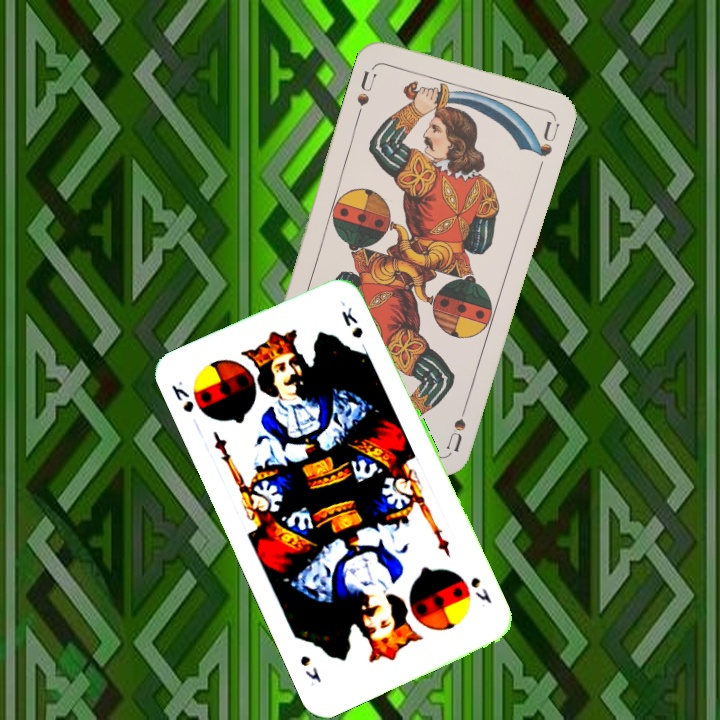SK: (167, 376, 197, 416), (466, 573, 494, 606)
SU: (443, 393, 472, 453), (353, 66, 379, 109)
